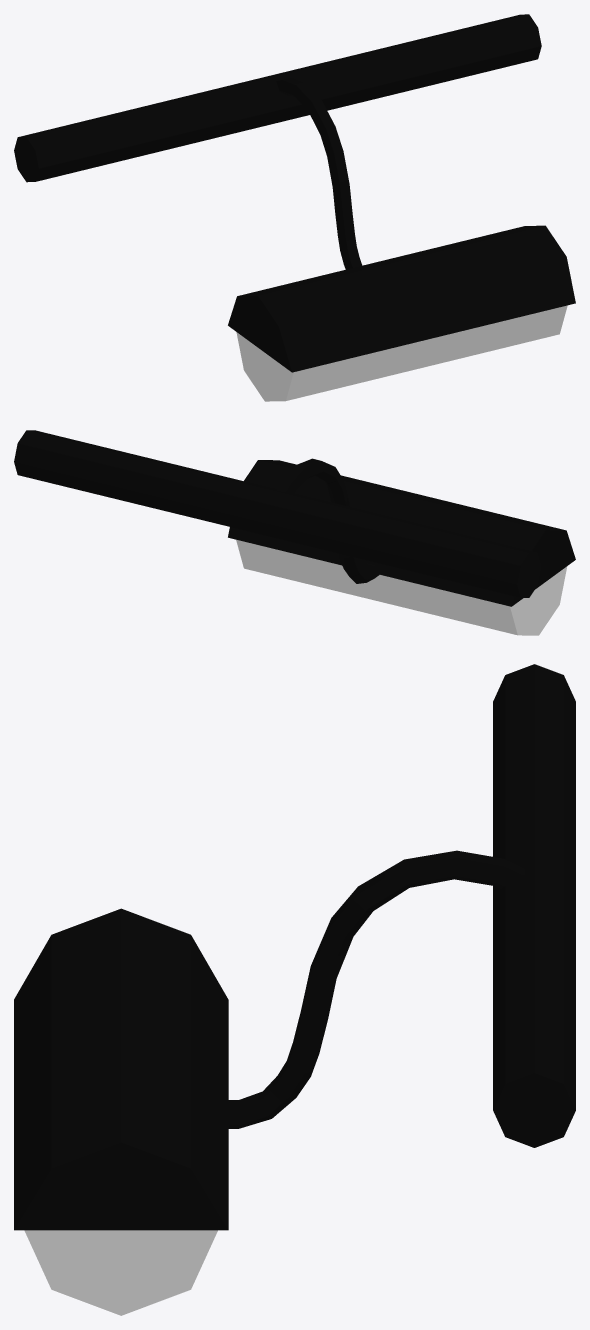
Rendered from GalleryLightB_On.glb.
3 views of the same model, one above another, from view 1: azimuth 30°, elevation 25°; view 2: azimuth 150°, elevation 25°; view 3: azimuth 270°, elevation 25° (orthographic). The views are drawn at different scales.
Parts seen in each view (by area): view 1: galleryLight_On.001; view 2: galleryLight_On.001; view 3: galleryLight_On.001.
Part boxes in pixels (left/top/right/bottom): galleryLight_On.001: left=14, top=14, right=575, bottom=401; galleryLight_On.001: left=14, top=430, right=575, bottom=635; galleryLight_On.001: left=14, top=664, right=575, bottom=1315.
Bounding box in the file's own units: 0.4998 × 0.1995 × 0.2903.
1 material, 1 textured.
